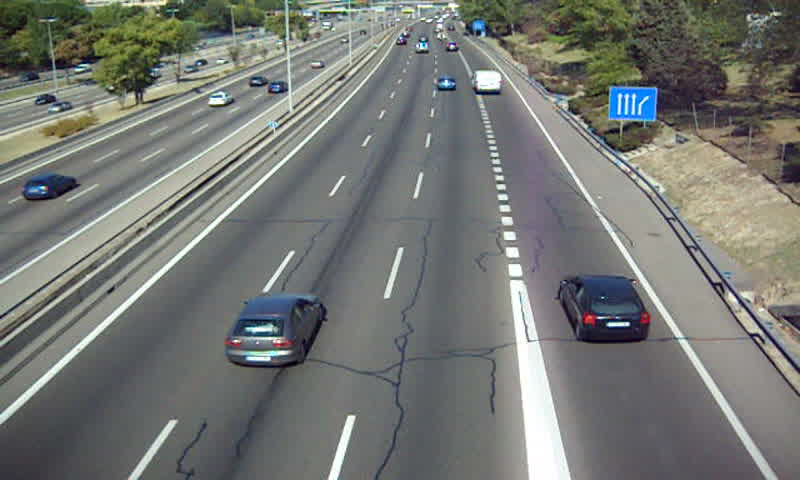car: (225, 295, 322, 369), (559, 275, 651, 341), (435, 77, 456, 92)
van: (473, 70, 501, 95)
